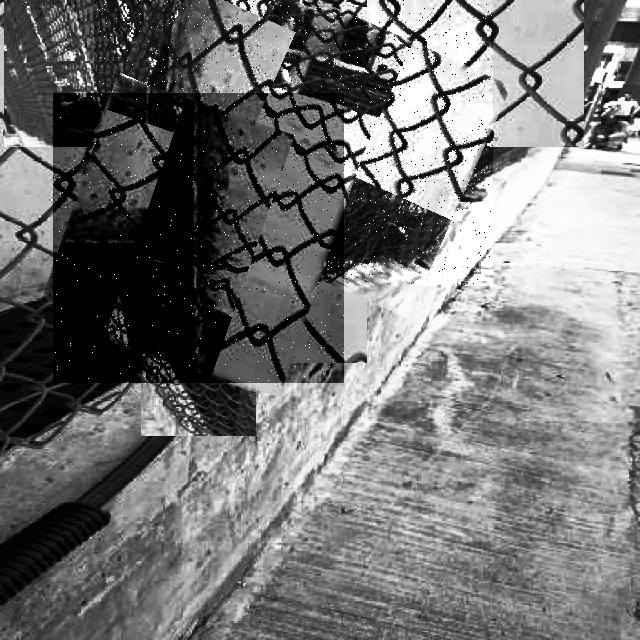fences: (94, 0, 493, 286), (53, 93, 344, 383)
